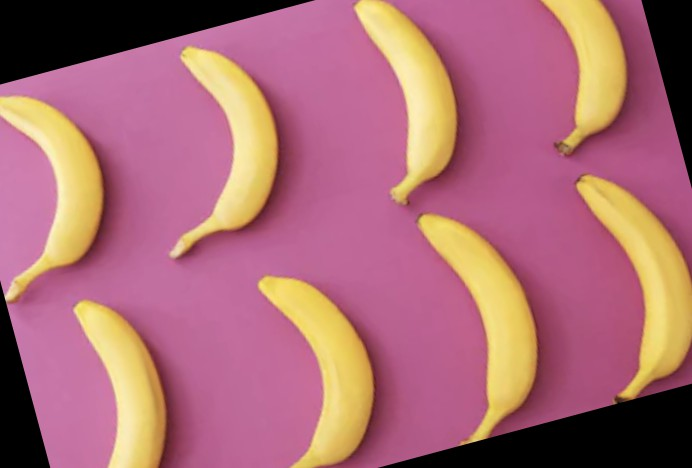fresh_banana: (417, 212, 538, 442), (577, 174, 692, 401), (170, 47, 278, 256), (259, 275, 373, 468), (353, 1, 457, 204), (1, 95, 103, 299), (73, 298, 167, 468), (538, 1, 626, 155)
